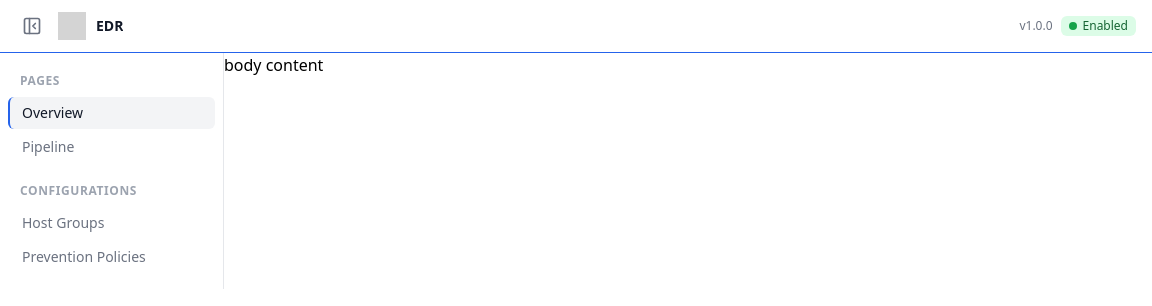
Test: AppShell sidebar collapse › keeps the app logo and name visible in the header when collapsed
Click the button named "Collapse navigation" at (32, 26), box [16,10,48,42]
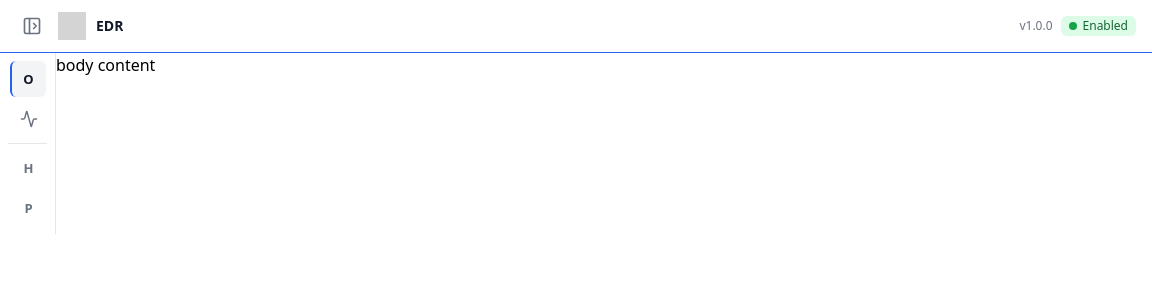
Expected: the text "EDR" is shown, [96,16,124,36]
Result: the text "Pages" is gone
